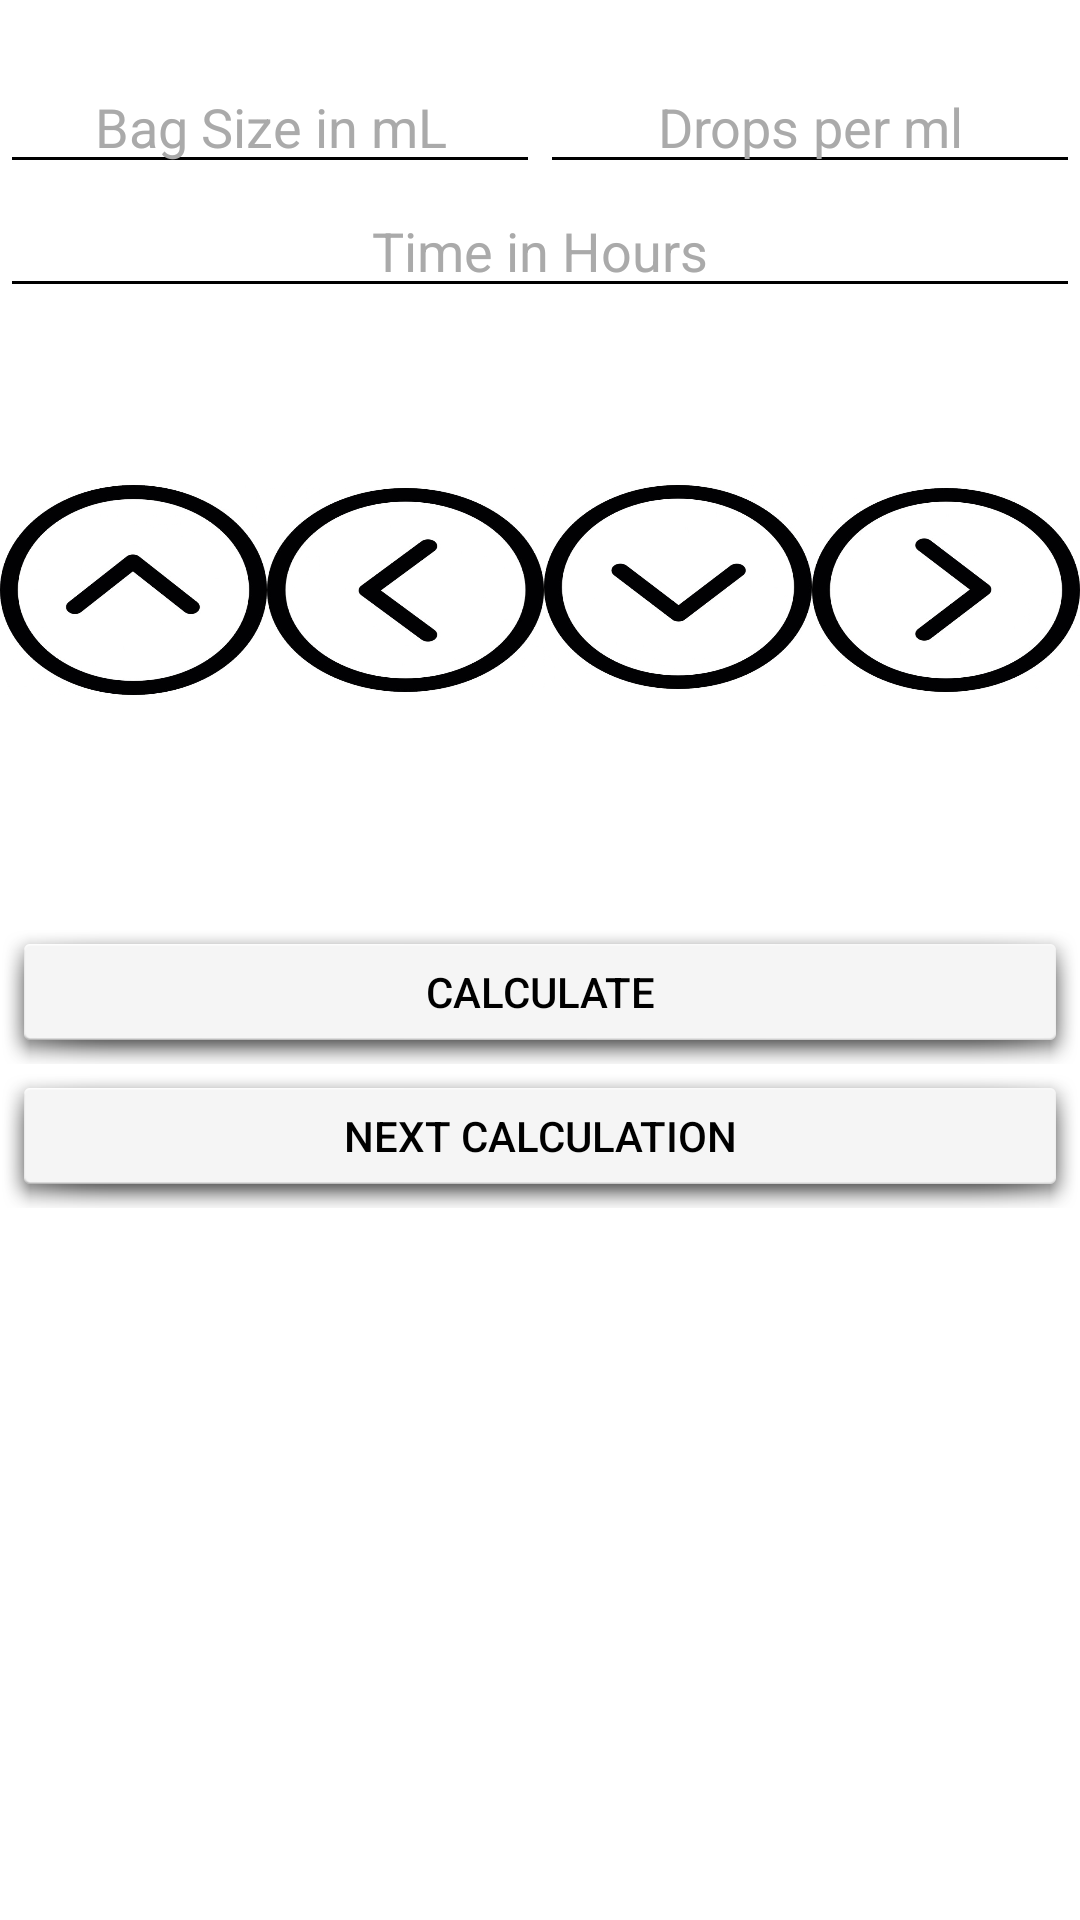

Screen size 1080*1920. Icon name, then its center in pixels as (x,y):
arrowdown: (678,587)
arrowleft: (405,590)
arrowright: (946,590)
arrowup: (133,590)
